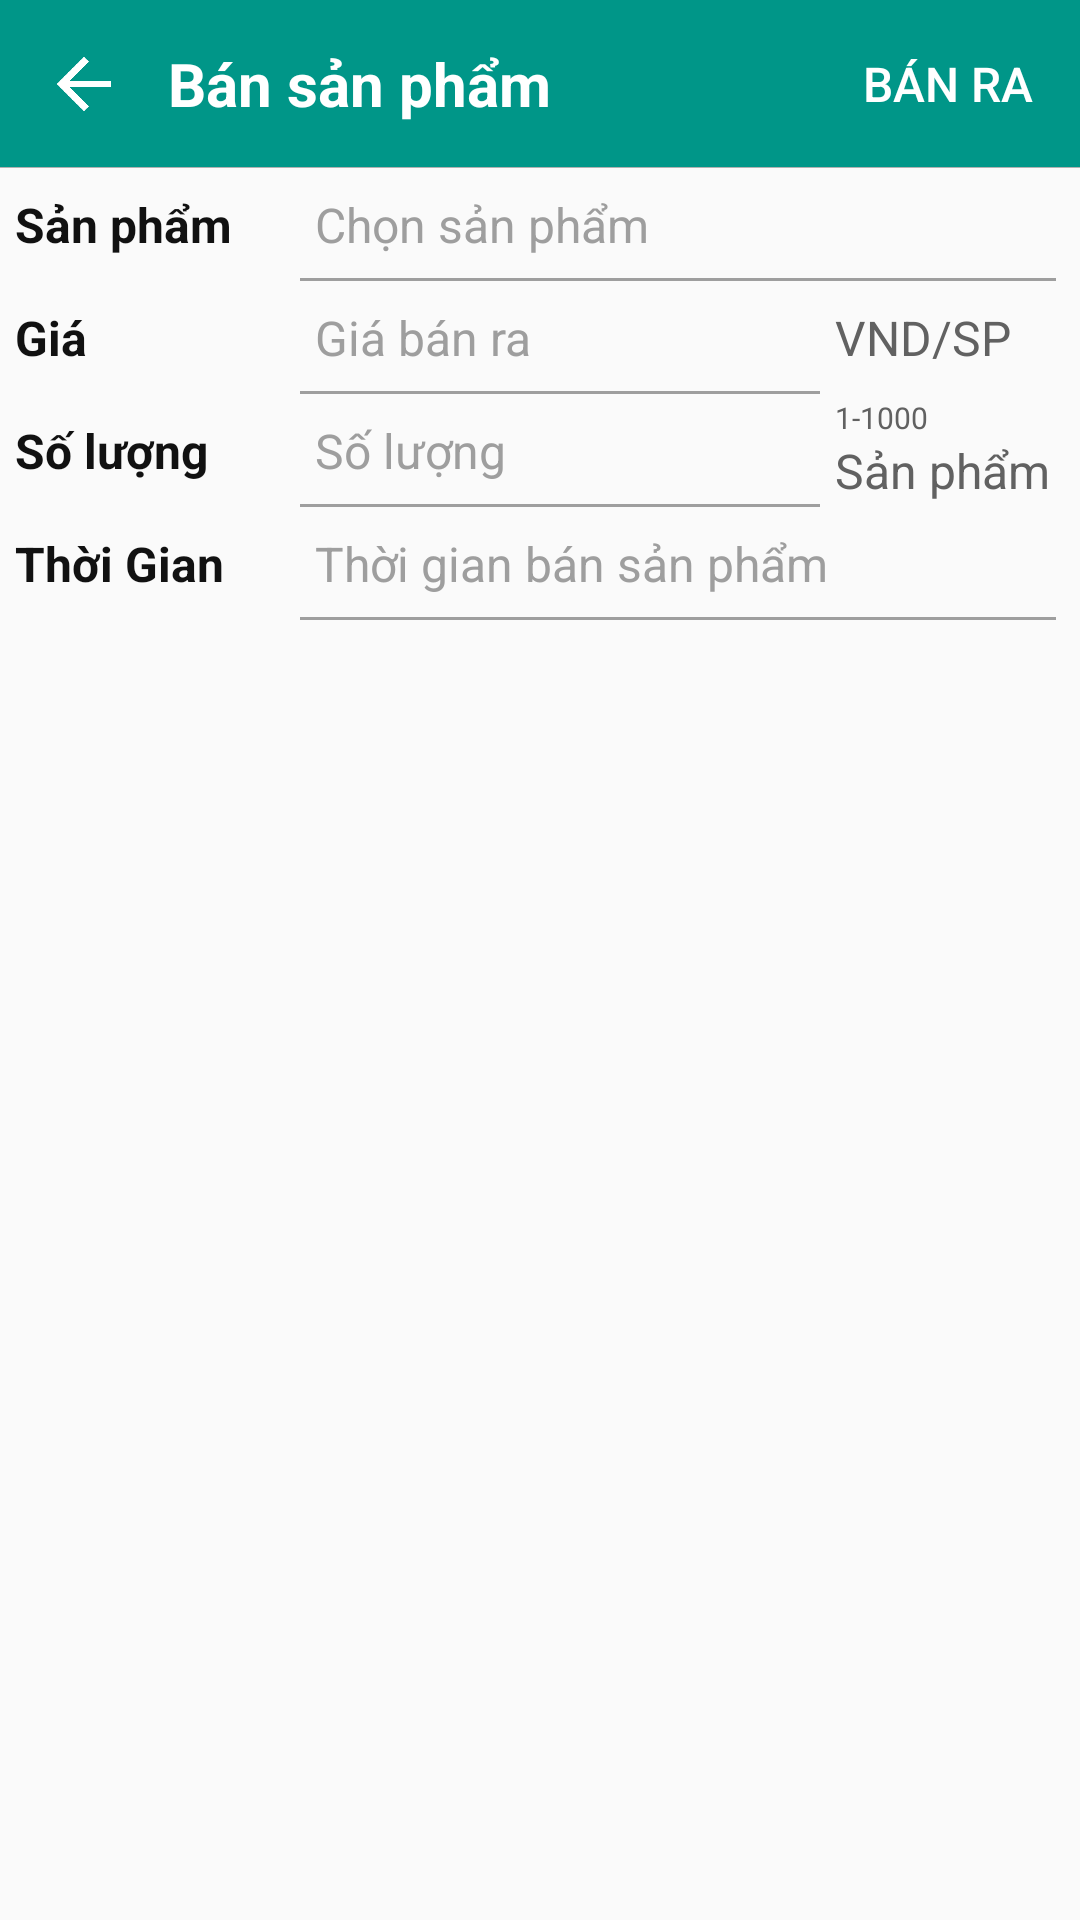

Icons on this 1080x1920 Android screen, each with the point to tap as (x=x, y=y):
back: (x=84, y=84)
